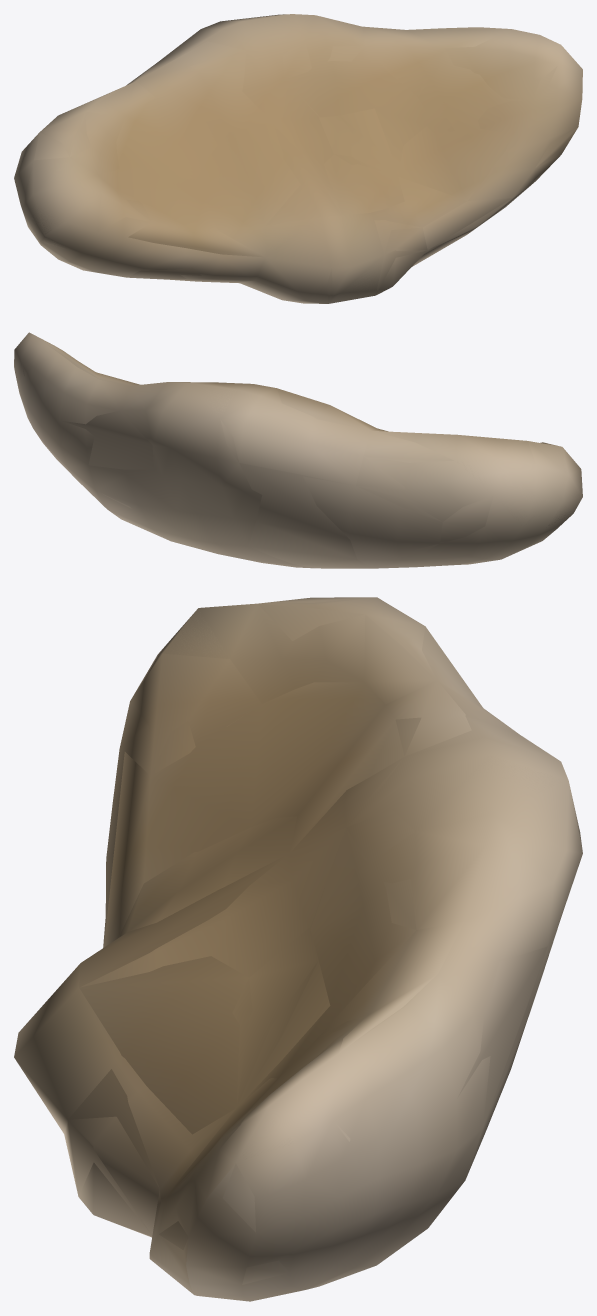
Rendered from FR sesamoidea distale.fbx.
The picture shows the model from 3 angles, top to bottom: view 1: azimuth 30°, elevation 25°; view 2: azimuth 150°, elevation 25°; view 3: azimuth 270°, elevation 25°; orthographic projection. The views are drawn at different scales.
Parts seen in each view (by area): view 1: FR sesamoidea distale, FR sesamoidea distale low; view 2: FR sesamoidea distale, FR sesamoidea distale low; view 3: FR sesamoidea distale, FR sesamoidea distale low.
Part boxes in pixels (left/top/right/bottom): FR sesamoidea distale: left=14, top=14, right=582, bottom=303; FR sesamoidea distale low: left=16, top=14, right=577, bottom=302; FR sesamoidea distale: left=14, top=332, right=582, bottom=568; FR sesamoidea distale low: left=22, top=343, right=582, bottom=568; FR sesamoidea distale: left=14, top=597, right=582, bottom=1301; FR sesamoidea distale low: left=66, top=597, right=579, bottom=1284.
Bounding box in the file's own units: 3.84 × 1.49 × 1.72.
Materials: 1 (1 with a texture image).
